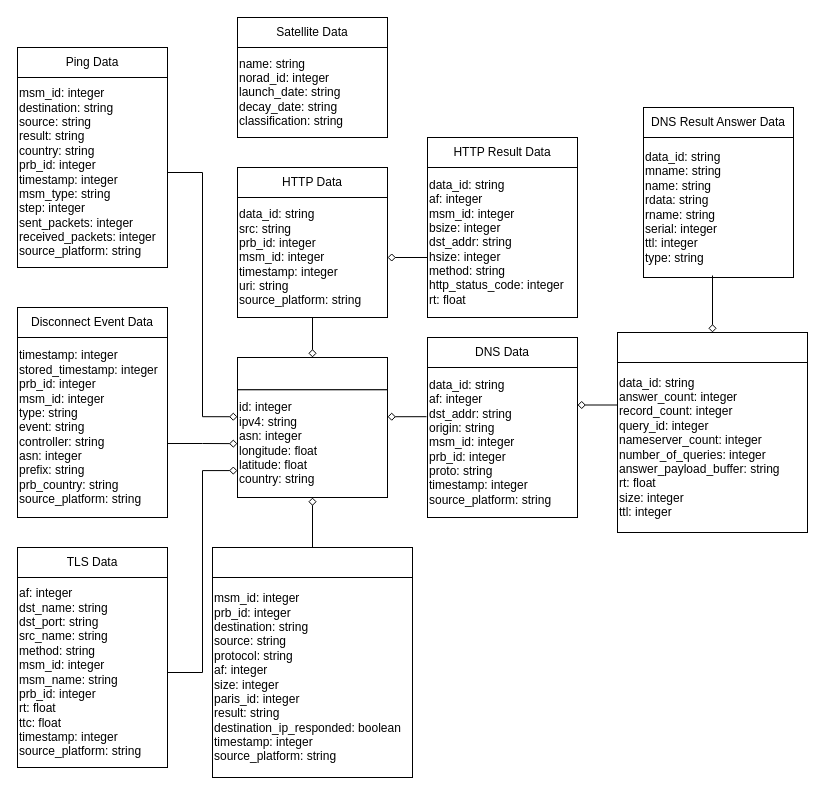
Some shapes in this 825 by 795 pixel diagram are drawn without their labels. Here are the shapes that lost their labels. From the top down, the centre of each, then its label:
At (712,347): "DNS Result Data".
At (312,373): "RIPE Atlas Probe Data".
At (312,562): "Traceroute Data".
